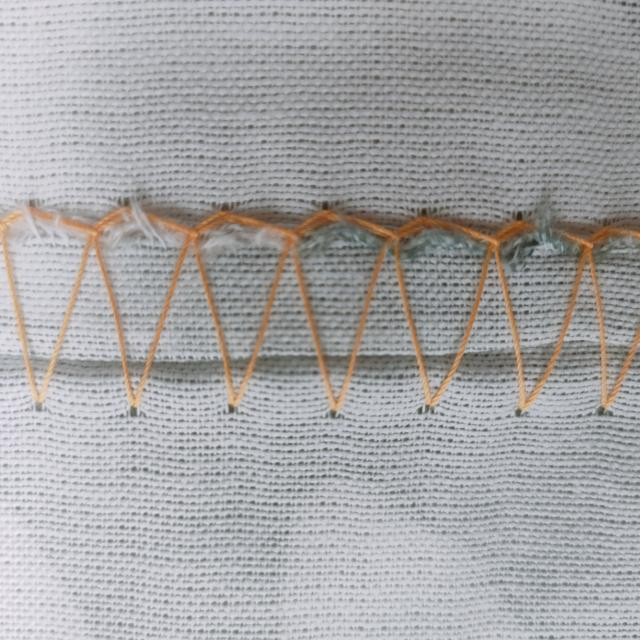Stitch: (4, 151, 640, 470)
